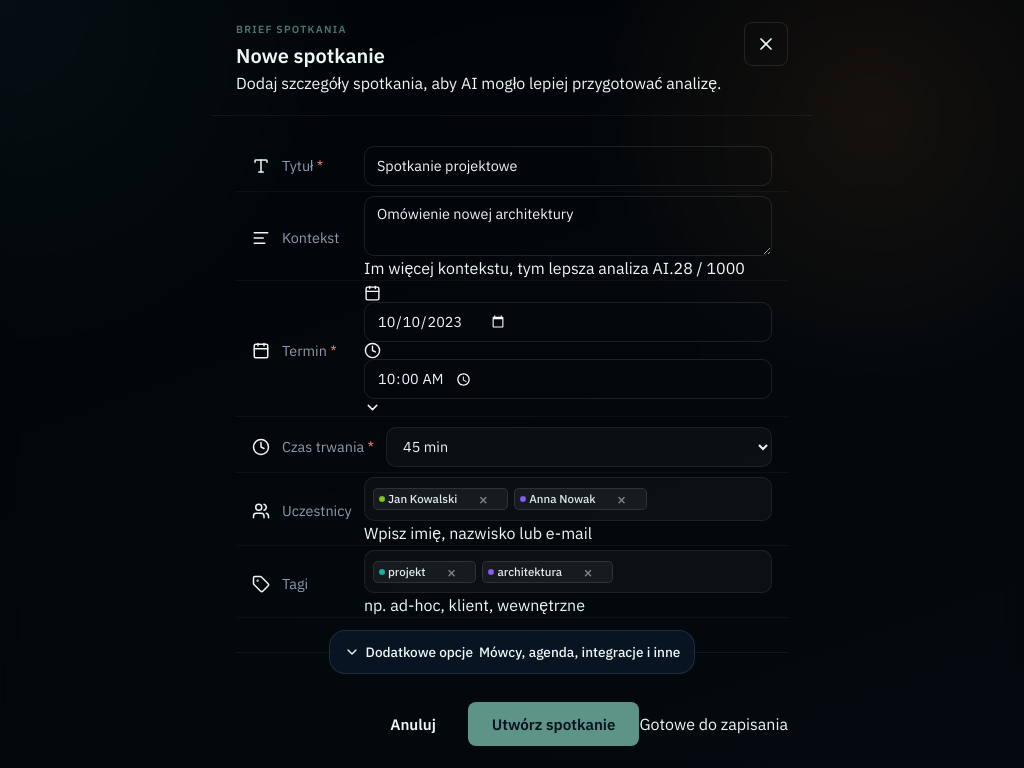
Test case: StudioBriefModal › toggles advanced options when clicking the toggle button
Expected: the field with placeholder "np. Sala konferencyjna A" is not shown
Click the button "Dodatkowe opcje Mówcy, agenda, integracje i inne": (512, 652) [329, 630, 695, 674]
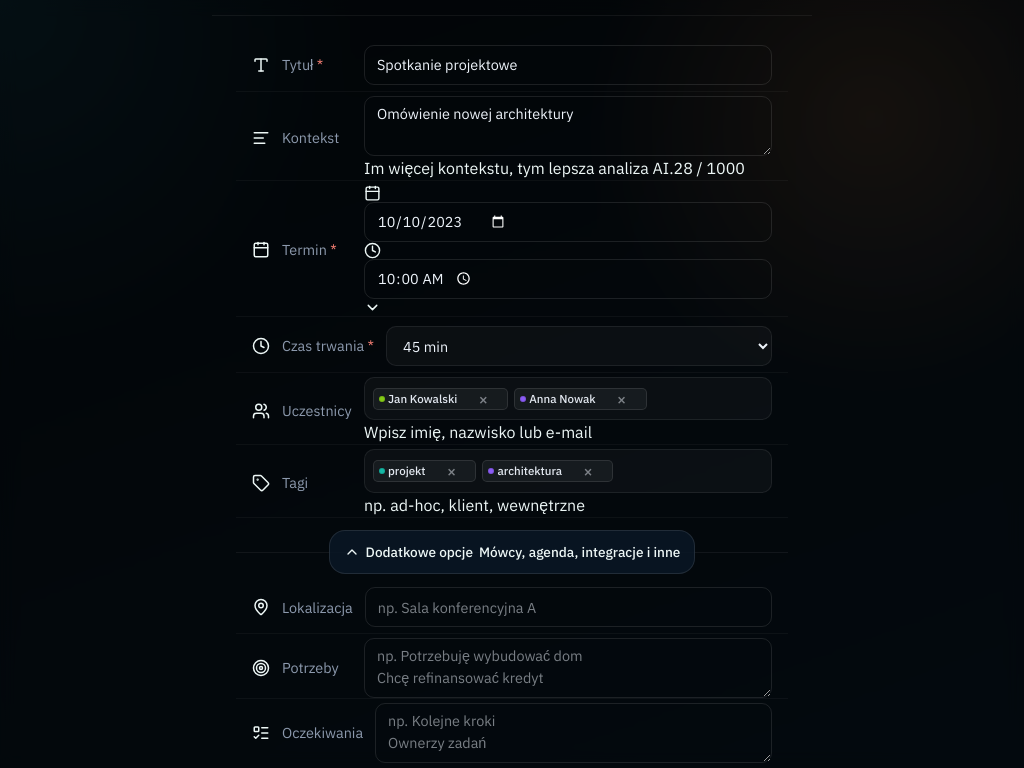
Expected: the field with placeholder "np. Sala konferencyjna A" is shown, [365, 587, 772, 627]
